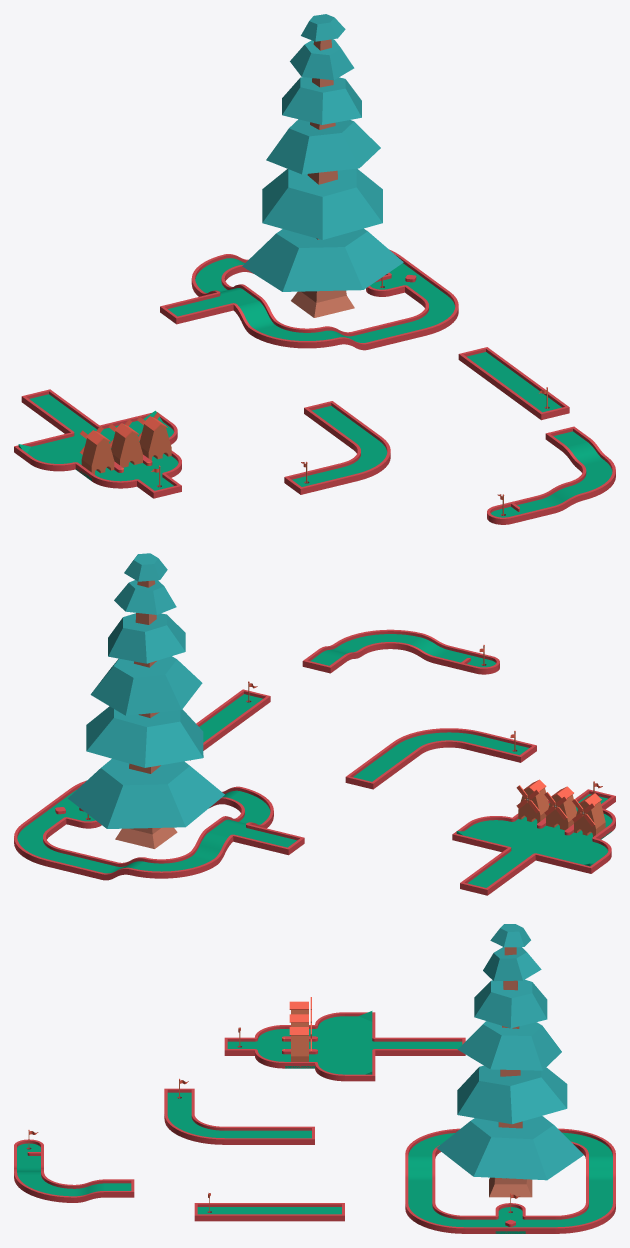
3 renders of one model, top to bottom at view 1: azimuth 30°, elevation 25°; view 2: azimuth 150°, elevation 25°; view 3: azimuth 270°, elevation 25°, orthographic. The views are drawn at different scales.
Parts seen in each view (by area): view 1: tree_pineRoundB, bend_large (×5), building_windmill (×3), end_hole (×3), slope_smoothA (×2), slope_smoothB, spawn4; view 2: tree_pineRoundB, bend_large (×5), straight (×11), building_windmill (×3), corner_innerDouble (×3), end_hole (×2), corner_hill (×2), side (×2), slope_smoothB, slope_smoothA, spawn4, spawn2 (+6 smaller); view 3: tree_pineRoundB, bend_large (×6), straight (×9), end_hole (×3), slope_smoothB (×2), corner_hill (×2), spawn3, slope_smoothA, spawn2, spawn1, building_windmill, spawn5 (+3 smaller).
Part boxes in pixels (<box>): tree_pineRoundB: <box>242,14,403,317</box>; bend_large (×5): <box>191,254,615,500</box>; building_windmill (×3): <box>82,416,171,466</box>; end_hole (×3): <box>137,395,569,498</box>; slope_smoothA (×2): <box>538,438,606,513</box>; slope_smoothB: <box>233,297,278,333</box>; spawn4: <box>160,299,204,324</box>; tree_pineRoundB: <box>68,553,224,848</box>; bend_large (×5): <box>14,629,480,878</box>; straight (×11): <box>23,701,535,883</box>; building_windmill (×3): <box>518,779,605,828</box>; corner_innerDouble (×3): <box>496,817,594,852</box>; end_hole (×2): <box>227,689,536,762</box>; corner_hill (×2): <box>452,822,607,873</box>; side (×2): <box>480,832,578,867</box>; slope_smoothB: <box>189,829,233,864</box>; slope_smoothA: <box>406,633,449,663</box>; spawn4: <box>261,831,304,855</box>; spawn2: <box>345,765,389,789</box>; tree_pineRoundB: <box>437,924,583,1197</box>; bend_large (×6): <box>14,1114,615,1233</box>; straight (×9): <box>224,1037,555,1233</box>; end_hole (×3): <box>164,1037,254,1221</box>; slope_smoothB (×2): <box>405,1154,615,1180</box>; corner_hill (×2): <box>345,1011,375,1081</box>; spawn3: <box>104,1179,134,1197</box>; slope_smoothA: <box>74,1179,104,1202</box>; spawn2: <box>285,1126,314,1144</box>; spawn1: <box>315,1203,344,1221</box>; building_windmill: <box>289,1027,308,1056</box>; spawn5: <box>435,1037,465,1055</box>.
Bounding box in the file's own units: 17 × 9.57 × 20.
